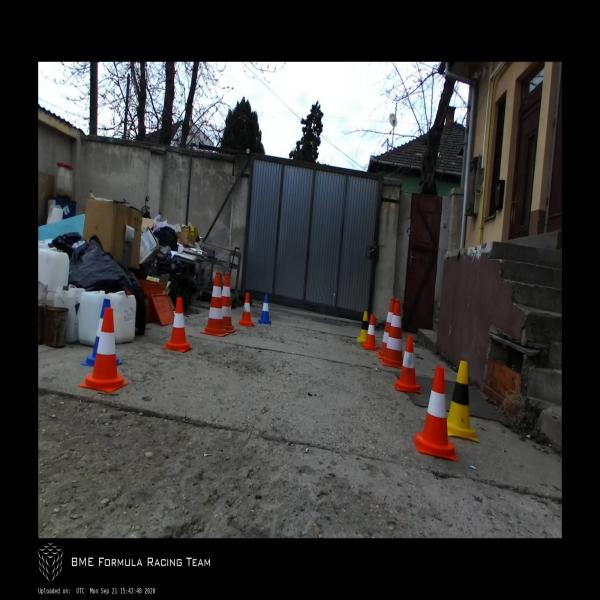blue_cone: (81, 299, 123, 366), (258, 294, 272, 324)
large_orange_cone: (200, 272, 229, 337), (380, 299, 403, 368), (376, 298, 396, 358), (222, 272, 236, 332)
orange_cone: (412, 366, 458, 462), (79, 308, 129, 392), (162, 297, 193, 352), (394, 335, 421, 393), (362, 314, 378, 351), (238, 292, 254, 327)
yellow_cone: (447, 359, 479, 442), (357, 311, 368, 342)
